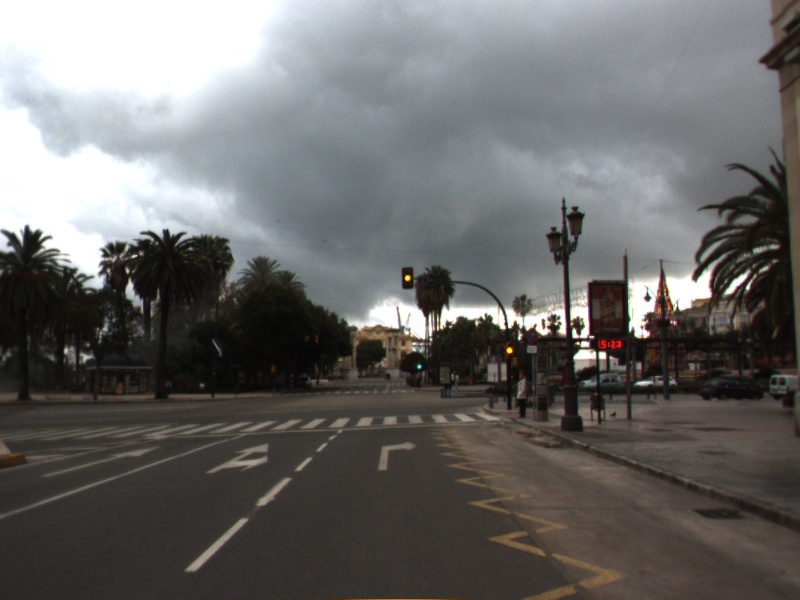RIGHT: (376, 438, 420, 473)
STRAIGHT: (37, 444, 163, 480)
STRAIGHT_RIGHT: (202, 441, 271, 476)
